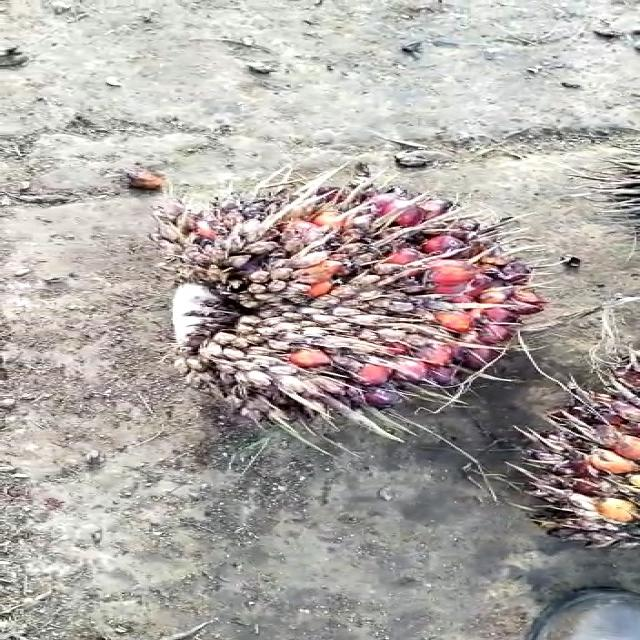palm oil: (148, 155, 564, 455)
